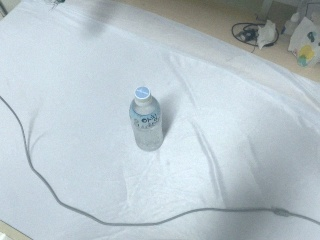bottle: (128, 86, 165, 152)
